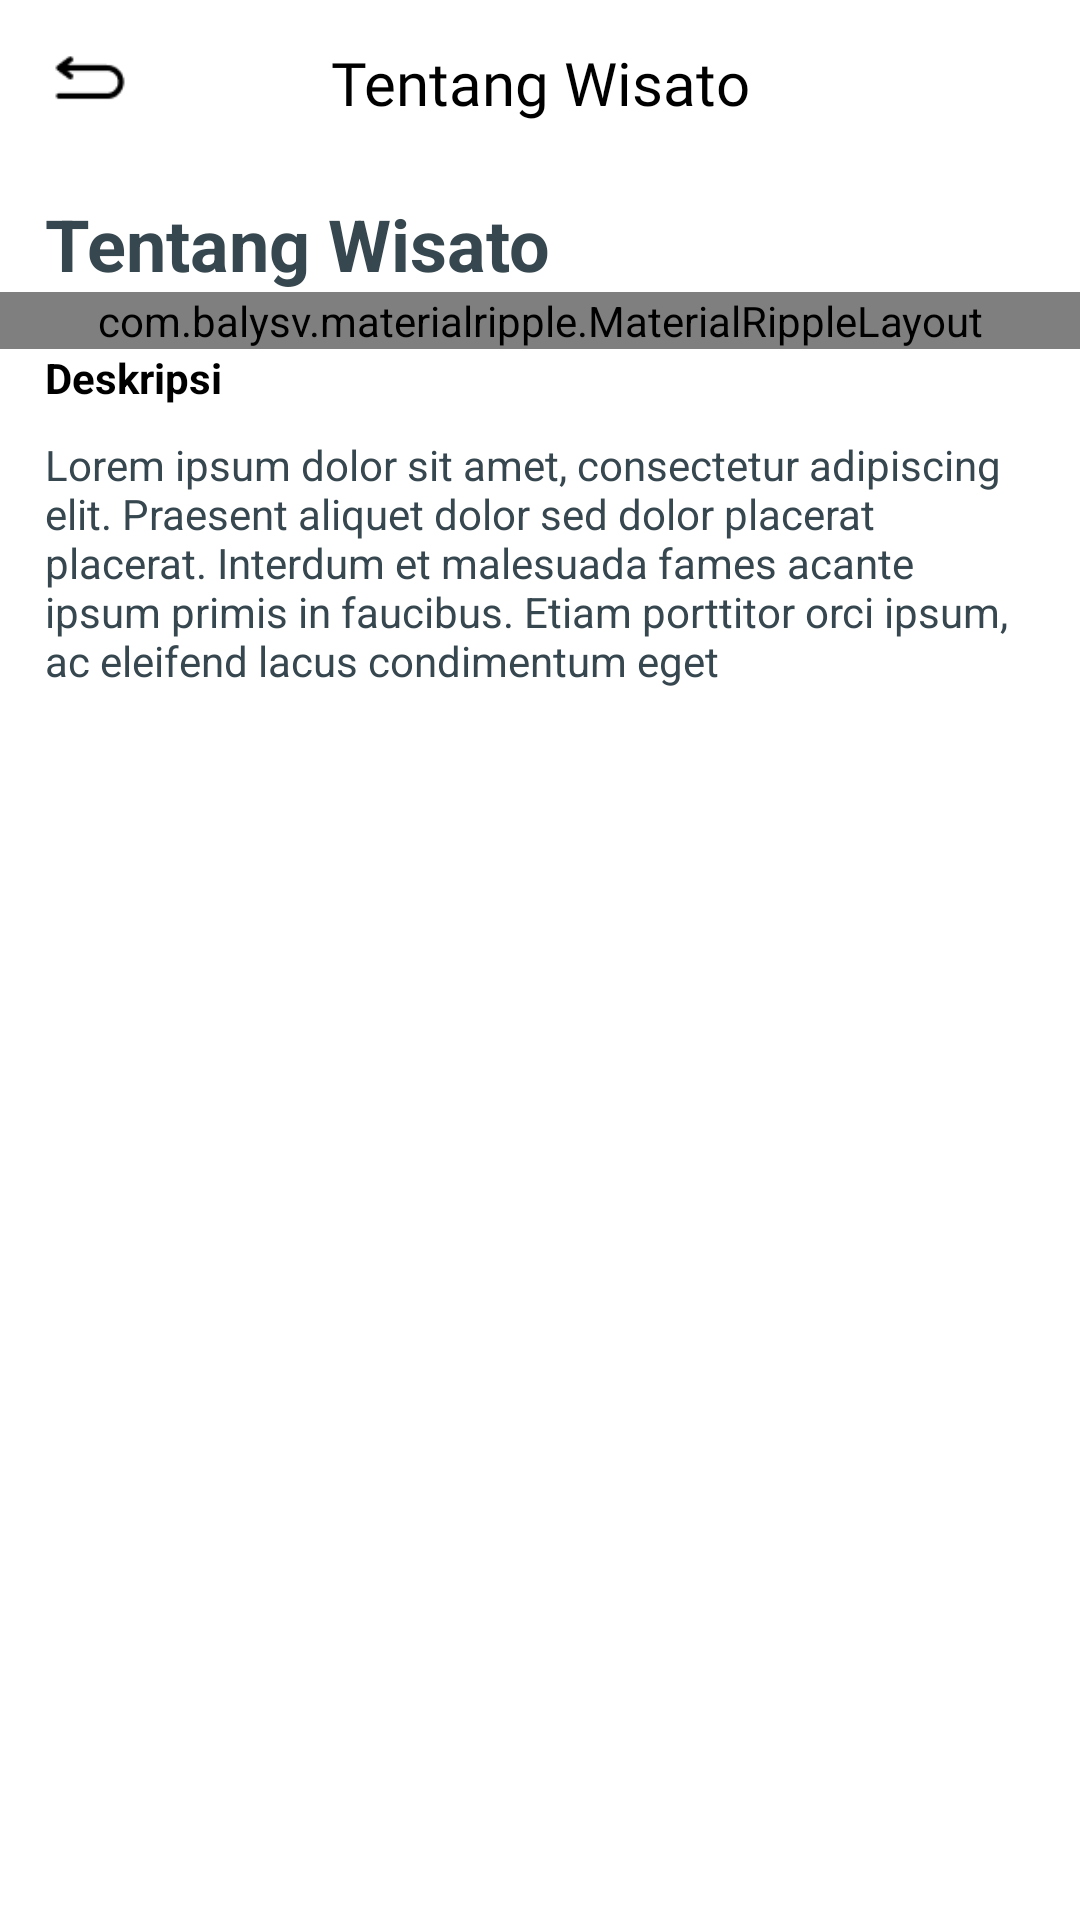

Named icons in this screenshot (1080 x 1920) and their bounding boxes, (x1, y1, x2, y2):
arrow back: (55, 56, 125, 99)
